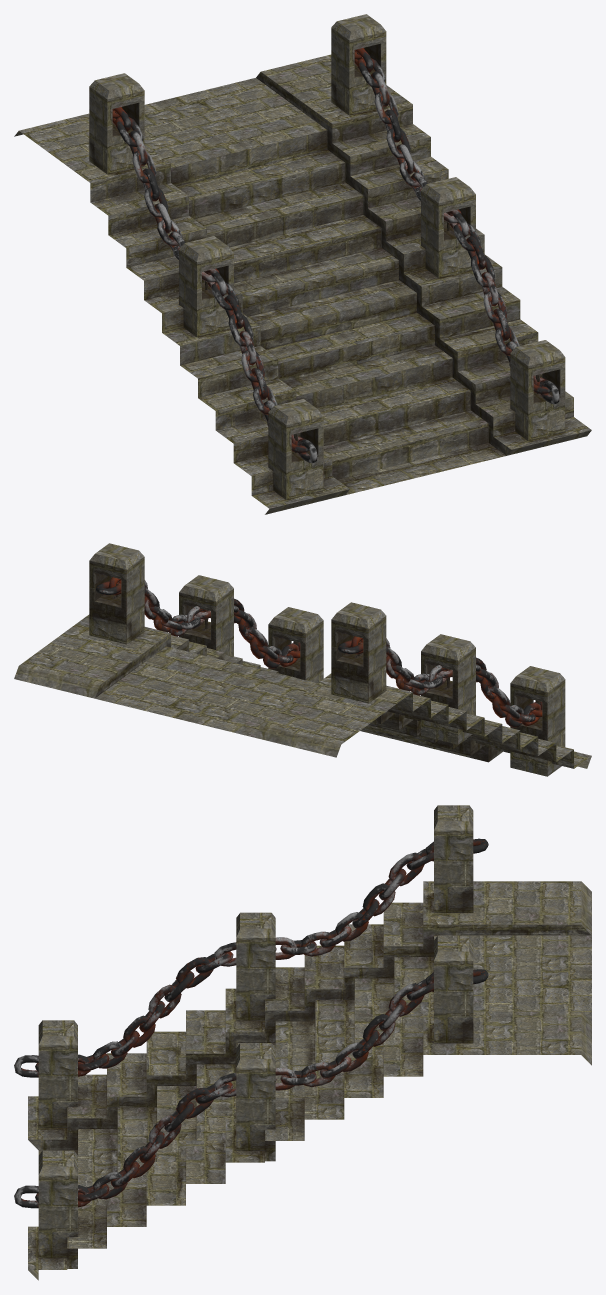
The model's file is rock_stairs.fbx.
3 renders of one model, top to bottom at view 1: azimuth 30°, elevation 25°; view 2: azimuth 150°, elevation 25°; view 3: azimuth 270°, elevation 25°, orthographic. The views are drawn at different scales.
Parts seen in each view (by area): view 1: node_e49f0d66_efa5_468b_afe5_4516f111ee99_mesh0, node_b39a69c9_cfbc_404c_89d4_fa3ba6f2e85f_mesh0, node_a92624af_43c6_4713_9850_3809f359ecfc_mesh0, node_c4e23a9c_2bcb_4ce6_a6ff_3df90cc1b504_mesh0, node_54bd8954_43d6_4622_ac59_7d09892c3465_mesh0, node_697640ca_6519_4ec6_b356_14319dffde41_mesh0, node_08457c96_fefb_40a1_9c11_bbd2d7da08f5_mesh0, node_41afb782_e7b7_43e2_a371_d0bd2ef48e44_mesh0, node_bdecaa31_f272_413f_976b_763496c0e43d_mesh0; view 2: node_e49f0d66_efa5_468b_afe5_4516f111ee99_mesh0, node_08457c96_fefb_40a1_9c11_bbd2d7da08f5_mesh0, node_697640ca_6519_4ec6_b356_14319dffde41_mesh0, node_bdecaa31_f272_413f_976b_763496c0e43d_mesh0, node_c4e23a9c_2bcb_4ce6_a6ff_3df90cc1b504_mesh0, node_b39a69c9_cfbc_404c_89d4_fa3ba6f2e85f_mesh0, node_a92624af_43c6_4713_9850_3809f359ecfc_mesh0, node_41afb782_e7b7_43e2_a371_d0bd2ef48e44_mesh0, node_54bd8954_43d6_4622_ac59_7d09892c3465_mesh0; view 3: node_e49f0d66_efa5_468b_afe5_4516f111ee99_mesh0, node_a92624af_43c6_4713_9850_3809f359ecfc_mesh0, node_b39a69c9_cfbc_404c_89d4_fa3ba6f2e85f_mesh0, node_54bd8954_43d6_4622_ac59_7d09892c3465_mesh0, node_697640ca_6519_4ec6_b356_14319dffde41_mesh0, node_41afb782_e7b7_43e2_a371_d0bd2ef48e44_mesh0, node_08457c96_fefb_40a1_9c11_bbd2d7da08f5_mesh0, node_bdecaa31_f272_413f_976b_763496c0e43d_mesh0, node_c4e23a9c_2bcb_4ce6_a6ff_3df90cc1b504_mesh0.
Part boxes in pixels (x1,y1,x2,y2): node_e49f0d66_efa5_468b_afe5_4516f111ee99_mesh0: [14, 54, 591, 514]; node_b39a69c9_cfbc_404c_89d4_fa3ba6f2e85f_mesh0: [112, 107, 317, 463]; node_a92624af_43c6_4713_9850_3809f359ecfc_mesh0: [354, 48, 559, 404]; node_c4e23a9c_2bcb_4ce6_a6ff_3df90cc1b504_mesh0: [268, 399, 323, 499]; node_54bd8954_43d6_4622_ac59_7d09892c3465_mesh0: [510, 340, 565, 440]; node_697640ca_6519_4ec6_b356_14319dffde41_mesh0: [331, 14, 386, 115]; node_08457c96_fefb_40a1_9c11_bbd2d7da08f5_mesh0: [89, 73, 144, 173]; node_41afb782_e7b7_43e2_a371_d0bd2ef48e44_mesh0: [421, 177, 475, 277]; node_bdecaa31_f272_413f_976b_763496c0e43d_mesh0: [179, 236, 233, 336]; node_e49f0d66_efa5_468b_afe5_4516f111ee99_mesh0: [14, 614, 591, 768]; node_08457c96_fefb_40a1_9c11_bbd2d7da08f5_mesh0: [331, 602, 386, 703]; node_697640ca_6519_4ec6_b356_14319dffde41_mesh0: [89, 543, 144, 644]; node_bdecaa31_f272_413f_976b_763496c0e43d_mesh0: [421, 634, 475, 744]; node_c4e23a9c_2bcb_4ce6_a6ff_3df90cc1b504_mesh0: [510, 666, 565, 776]; node_b39a69c9_cfbc_404c_89d4_fa3ba6f2e85f_mesh0: [338, 636, 542, 727]; node_a92624af_43c6_4713_9850_3809f359ecfc_mesh0: [96, 577, 300, 668]; node_41afb782_e7b7_43e2_a371_d0bd2ef48e44_mesh0: [179, 575, 233, 656]; node_54bd8954_43d6_4622_ac59_7d09892c3465_mesh0: [268, 607, 323, 682]; node_e49f0d66_efa5_468b_afe5_4516f111ee99_mesh0: [28, 881, 591, 1280]; node_a92624af_43c6_4713_9850_3809f359ecfc_mesh0: [14, 969, 488, 1208]; node_b39a69c9_cfbc_404c_89d4_fa3ba6f2e85f_mesh0: [14, 838, 488, 1077]; node_54bd8954_43d6_4622_ac59_7d09892c3465_mesh0: [38, 1150, 77, 1268]; node_697640ca_6519_4ec6_b356_14319dffde41_mesh0: [434, 935, 473, 1043]; node_41afb782_e7b7_43e2_a371_d0bd2ef48e44_mesh0: [236, 1043, 275, 1161]; node_08457c96_fefb_40a1_9c11_bbd2d7da08f5_mesh0: [434, 805, 473, 912]; node_bdecaa31_f272_413f_976b_763496c0e43d_mesh0: [236, 912, 275, 1020]; node_c4e23a9c_2bcb_4ce6_a6ff_3df90cc1b504_mesh0: [38, 1020, 77, 1127].
Bounding box in the file's own units: 520 × 440 × 731.
Materials: 1 (1 with a texture image).
